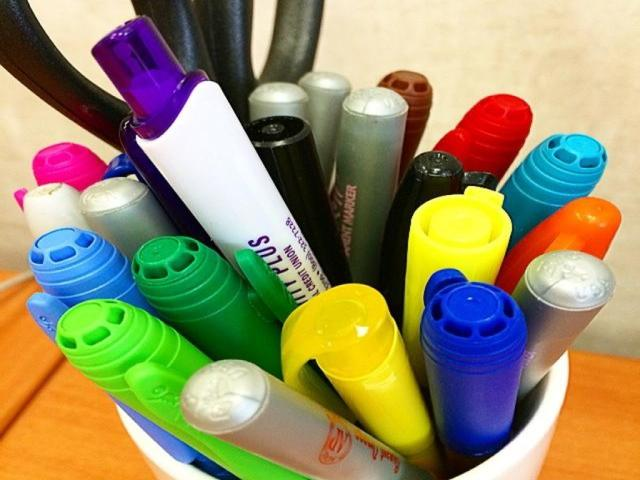PEN: (86, 14, 334, 305), (405, 277, 534, 462), (335, 85, 418, 296)
